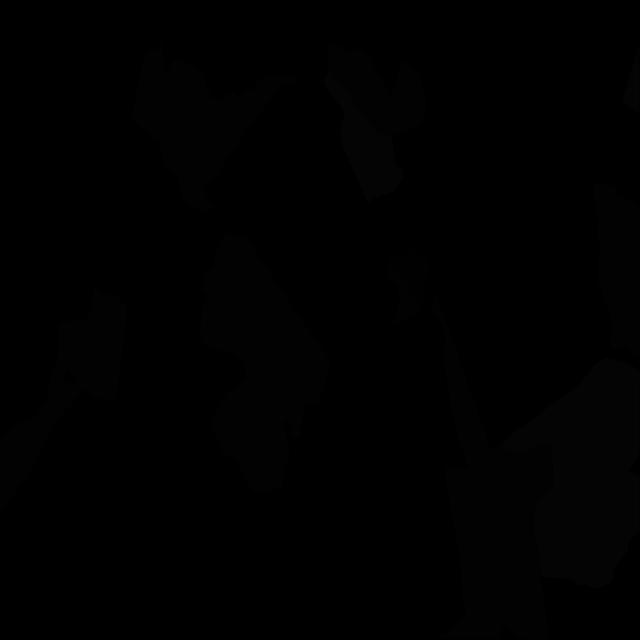cardboard: (431, 293, 553, 639), (200, 233, 331, 493), (158, 60, 299, 211), (0, 361, 86, 513), (328, 44, 427, 136), (593, 182, 640, 362), (56, 288, 127, 400), (132, 42, 169, 140), (388, 265, 422, 326)
rigid_plastic: (386, 246, 429, 307)
soft_plastic: (502, 358, 640, 589), (323, 70, 402, 204), (622, 43, 640, 113)
